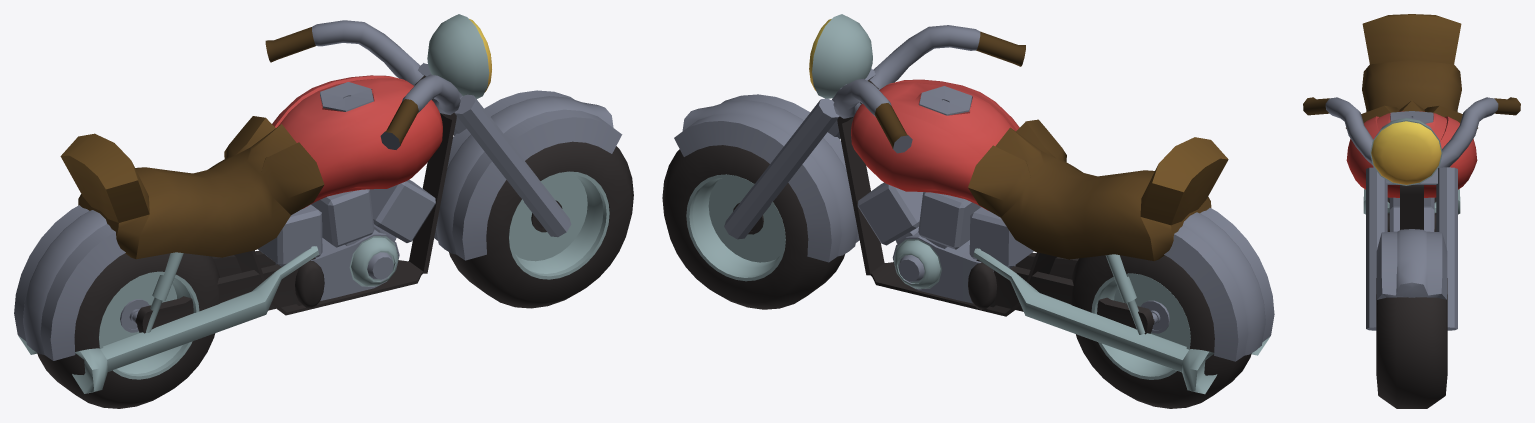
File: Moto2.fbx
3 renders of one model, left to right at view 1: azimuth 30°, elevation 25°; view 2: azimuth 150°, elevation 25°; view 3: azimuth 270°, elevation 25°, orthographic. The views are drawn at different scales.
Parts seen in each view (by area): view 1: Moto2; view 2: Moto2; view 3: Moto2.
Part boxes in pixels (bbox=[...]): Moto2: bbox=[14, 14, 633, 408]; Moto2: bbox=[662, 14, 1274, 408]; Moto2: bbox=[1303, 14, 1520, 408].
Bounding box in the file's own units: 249 × 121 × 95.38.
